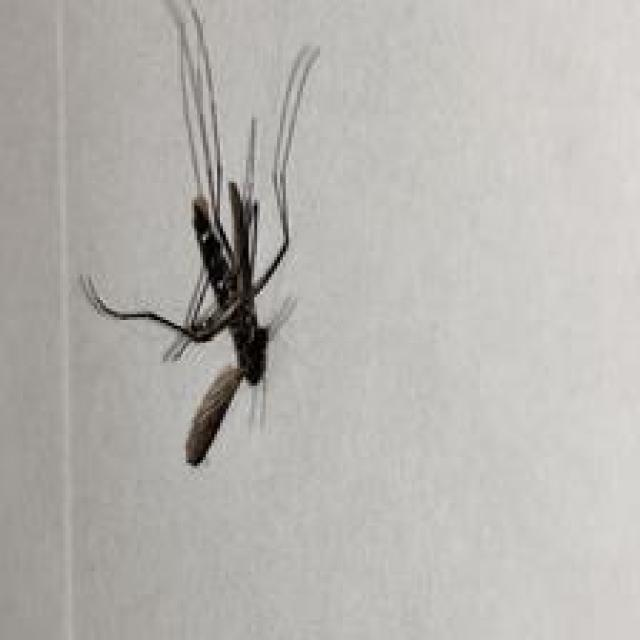Aedes albopictus: (78, 0, 322, 469)
